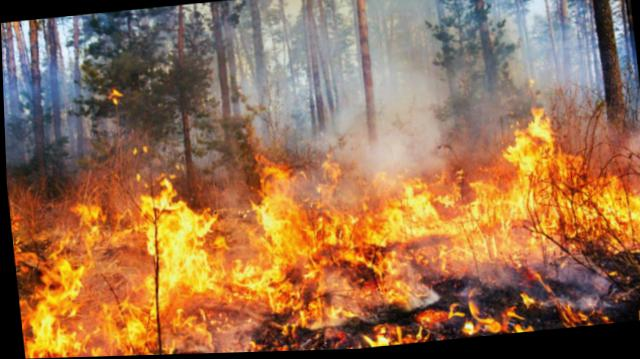fire: (3, 111, 640, 358)
